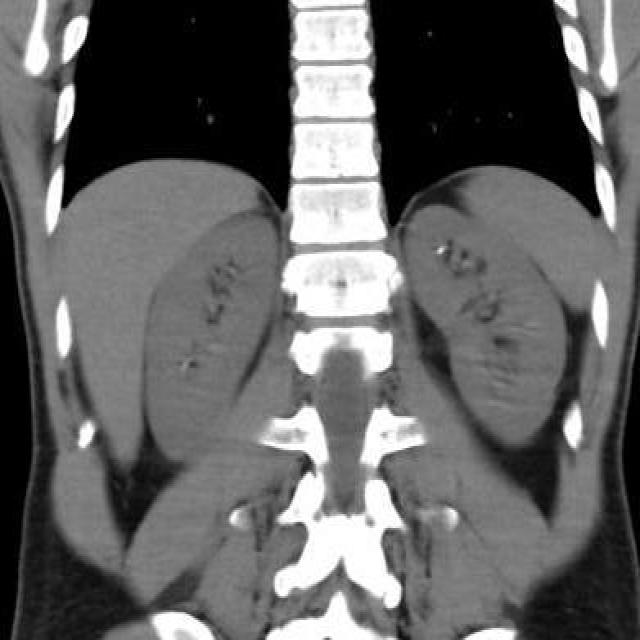Tas_Var: (434, 242, 448, 258)
